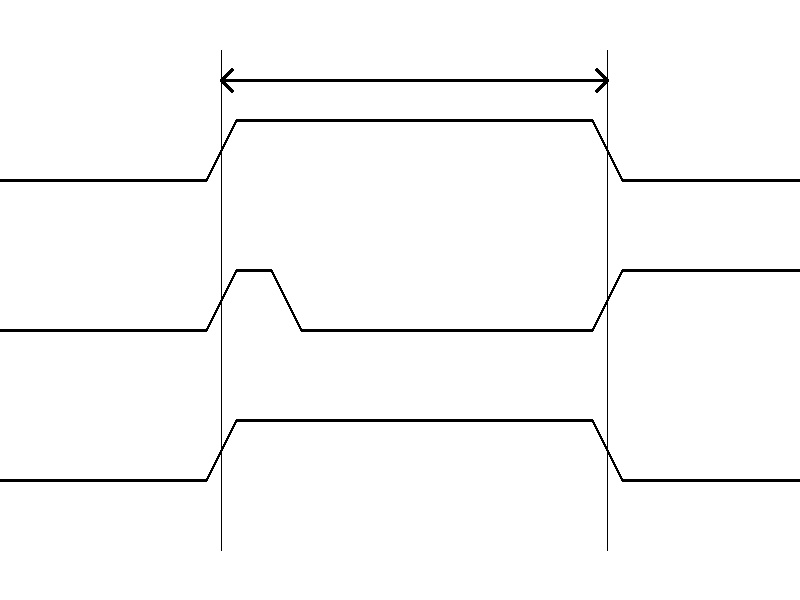double_arrow: (221, 65, 607, 95)
